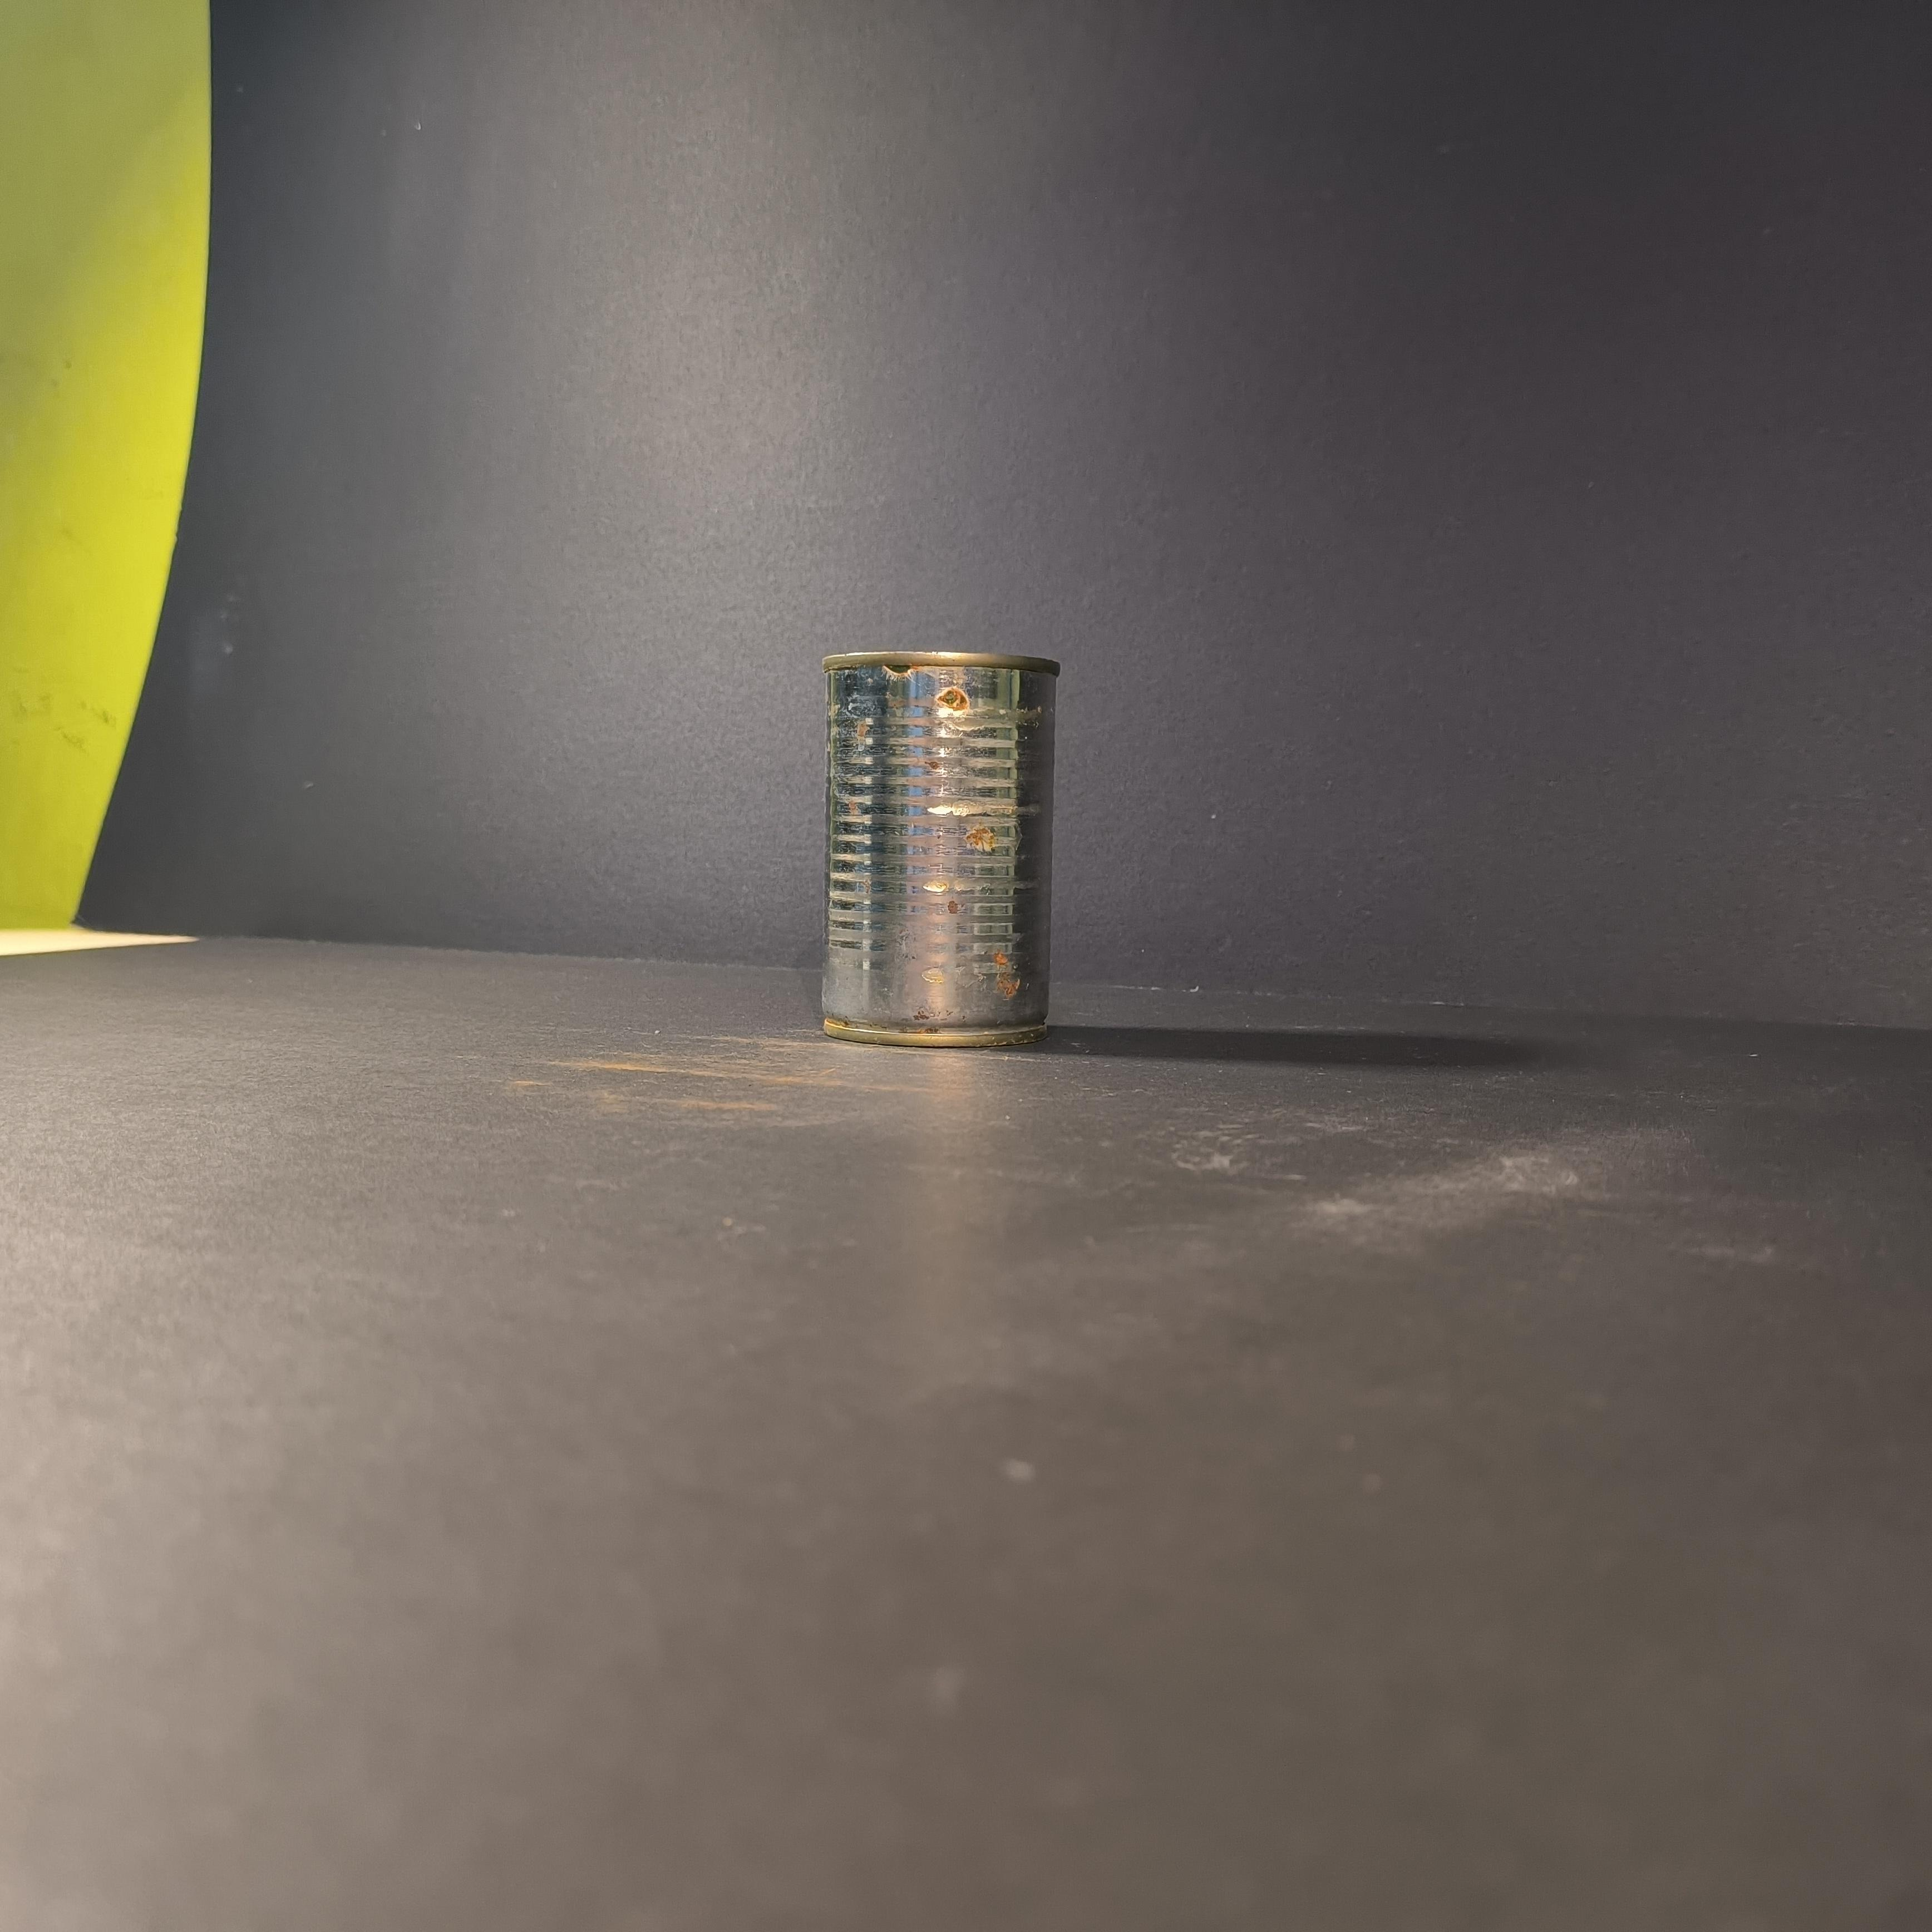Rusted: (803, 623, 1077, 1049)
